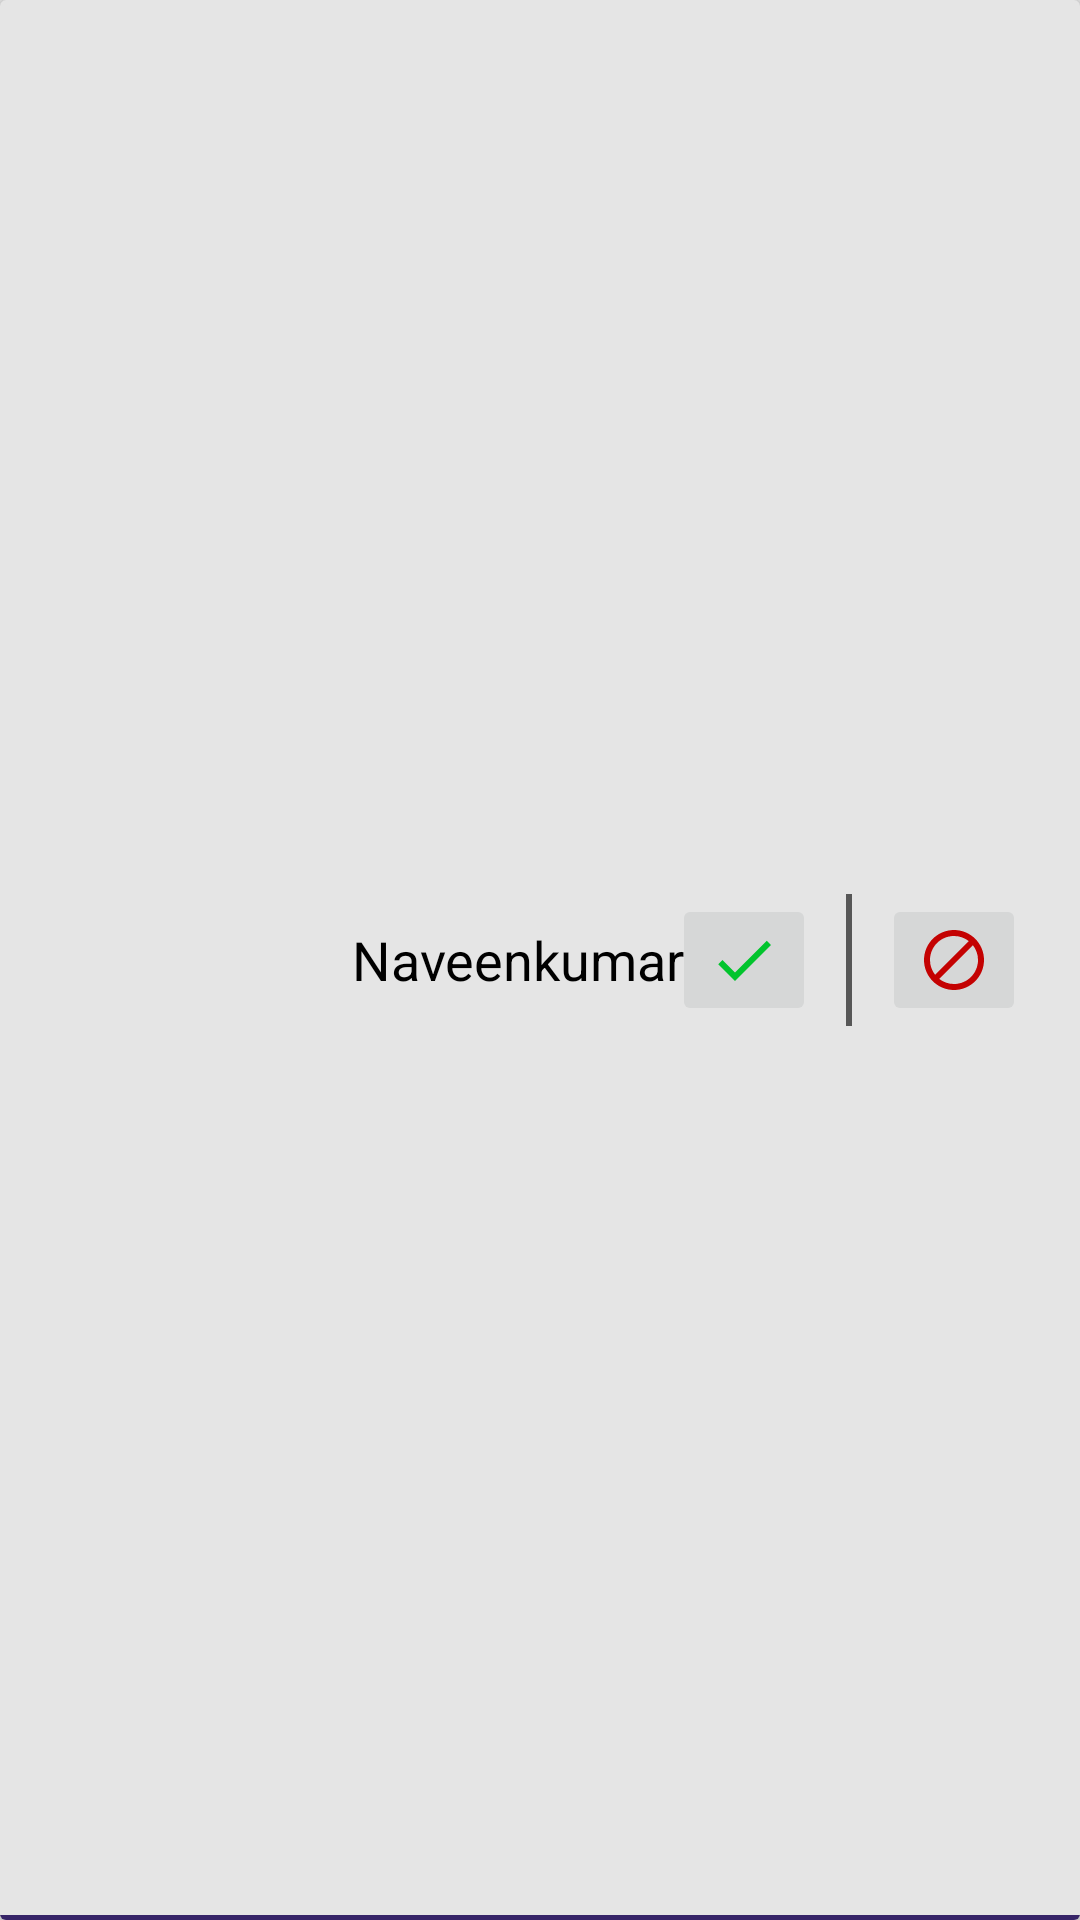

Icons on this 1080px×1920px Android screen, each with its box as Rect(x1, y1, x2, y2):
block: Rect(894, 912, 1014, 1008)
check: Rect(672, 912, 804, 1008)
